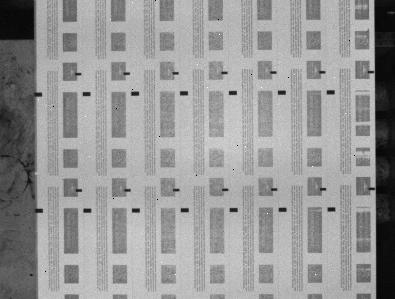backgroundclutter: (29, 274, 33, 277)
qblock: (131, 91, 140, 96), (35, 209, 43, 214), (181, 208, 189, 213), (230, 208, 238, 213), (34, 92, 42, 97), (180, 91, 188, 96), (327, 90, 335, 95), (132, 209, 140, 213), (83, 209, 91, 213), (279, 208, 287, 212), (328, 208, 336, 212), (229, 91, 237, 95), (83, 92, 91, 96), (278, 91, 286, 95)
smallqblock: (75, 72, 82, 76), (272, 188, 278, 192), (222, 71, 228, 75), (320, 188, 327, 191), (369, 188, 376, 191), (124, 189, 131, 192), (222, 189, 229, 192), (173, 189, 180, 192), (270, 71, 277, 74), (76, 189, 82, 192), (320, 71, 326, 74), (173, 72, 179, 75), (369, 71, 375, 74), (124, 72, 130, 75)
